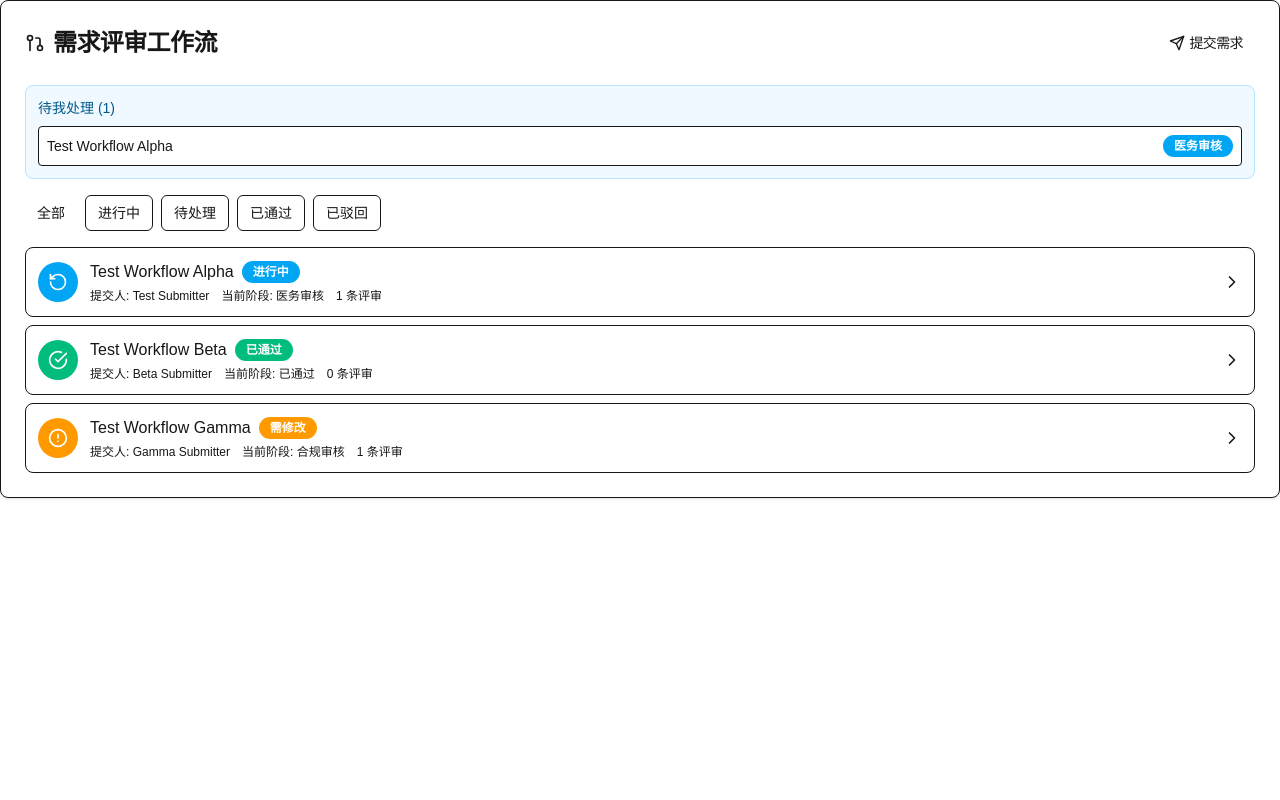
Test: ReviewWorkflowList › navigates to workflow detail on click
This screenshot has width=1280, height=800.
Click the button "Test Workflow Alpha 进行中 提交人: Test Submitter 当前阶段: 医务审核 1 条评审". click: (58, 282)
box: [25,247,1255,317]
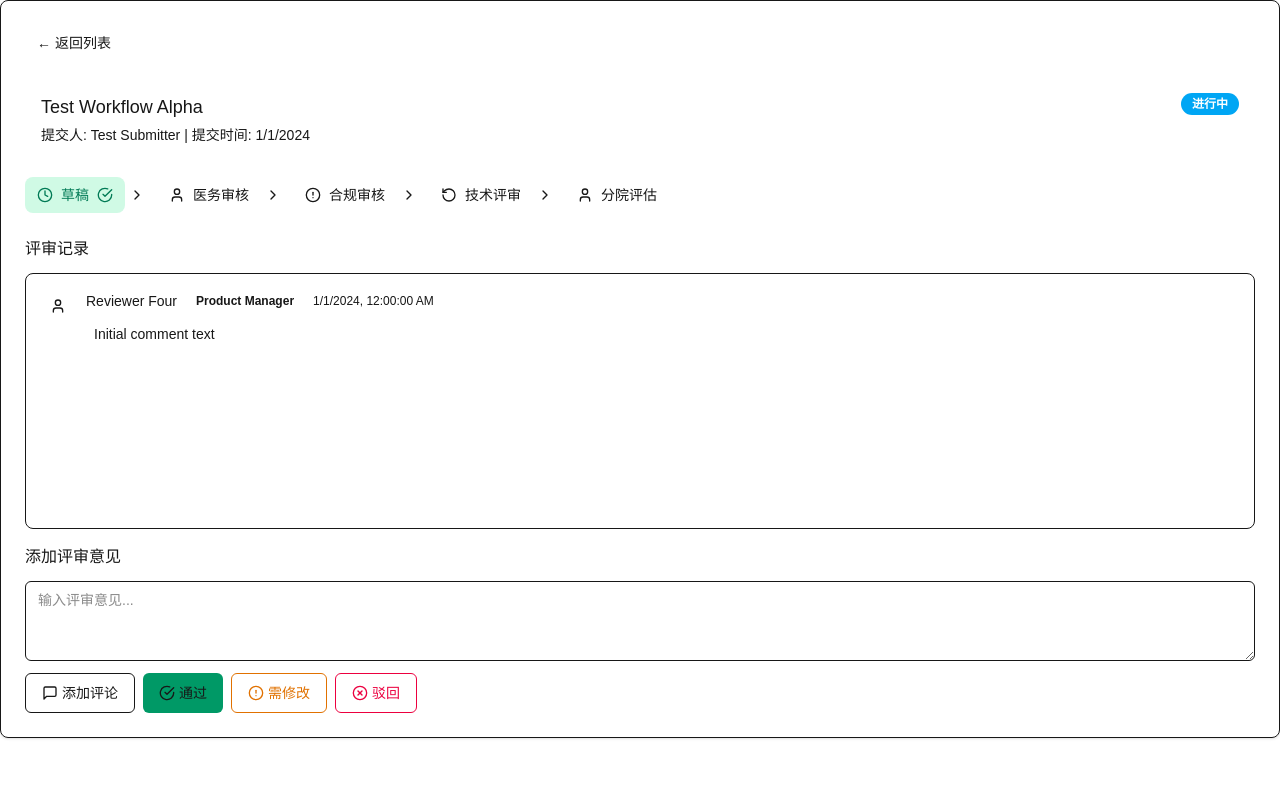
expect the button "← 返回列表" is shown: met, box [25,25,123,61]
expect the heading "评审记录" is shown: met, box [25,240,89,257]
